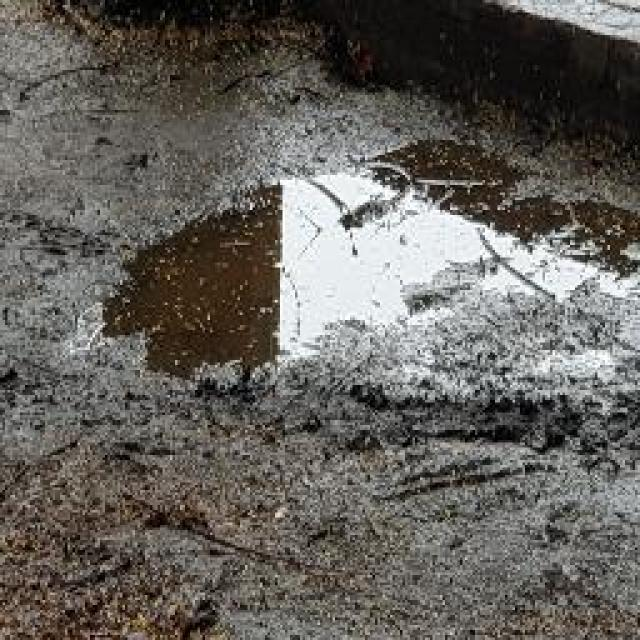stagnation: (98, 125, 640, 393)
